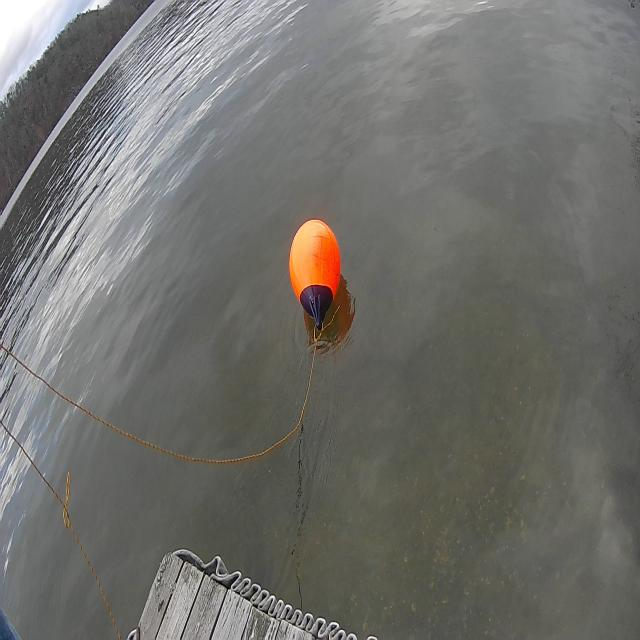Buoy: (286, 210, 346, 334)
